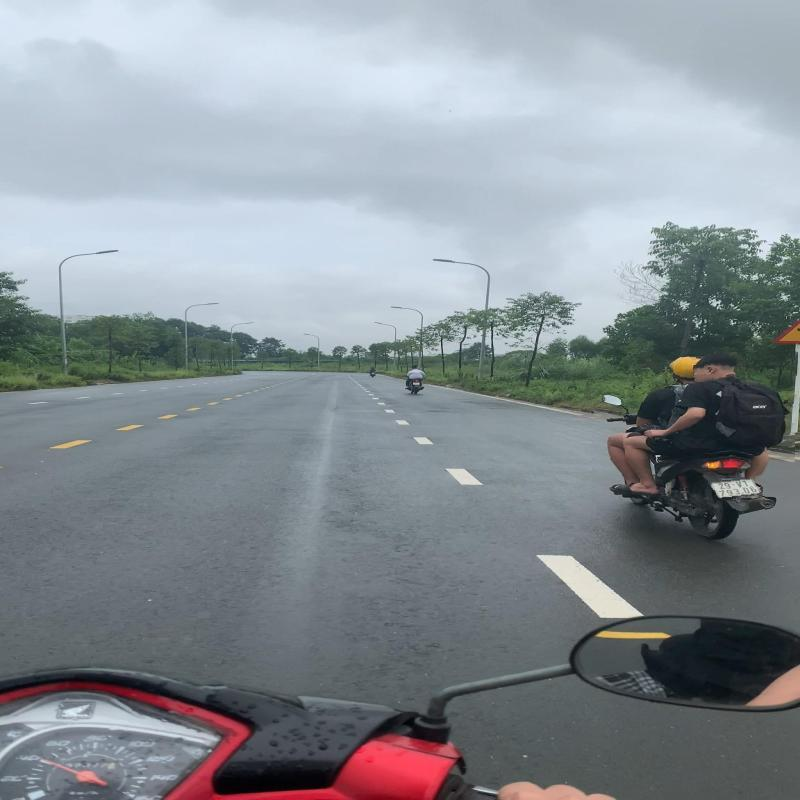helmet: (668, 353, 700, 381)
licenseplate: (709, 477, 763, 500)
motorcyclist: (592, 347, 796, 544)
nohelmet: (692, 350, 744, 380)
